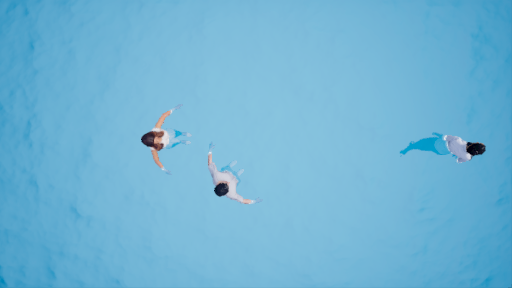person: (132, 95, 195, 172), (394, 125, 493, 167), (208, 136, 262, 212)
